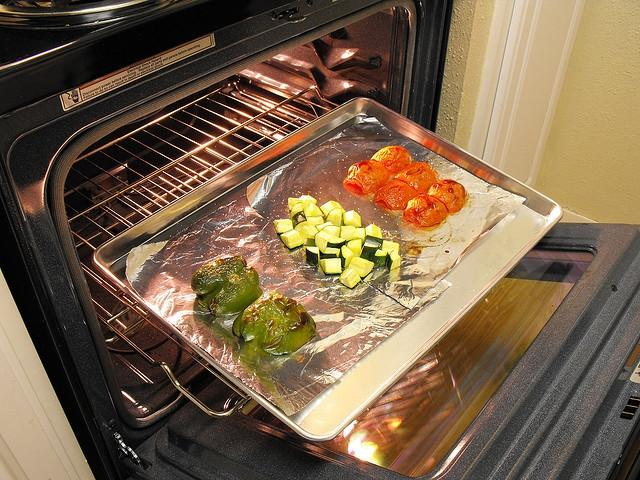bell pepper: (232, 290, 316, 355), (190, 253, 263, 317)
tomato: (343, 161, 390, 194), (393, 162, 440, 194), (374, 178, 419, 210), (404, 194, 448, 226), (426, 180, 467, 214), (369, 146, 412, 176)
